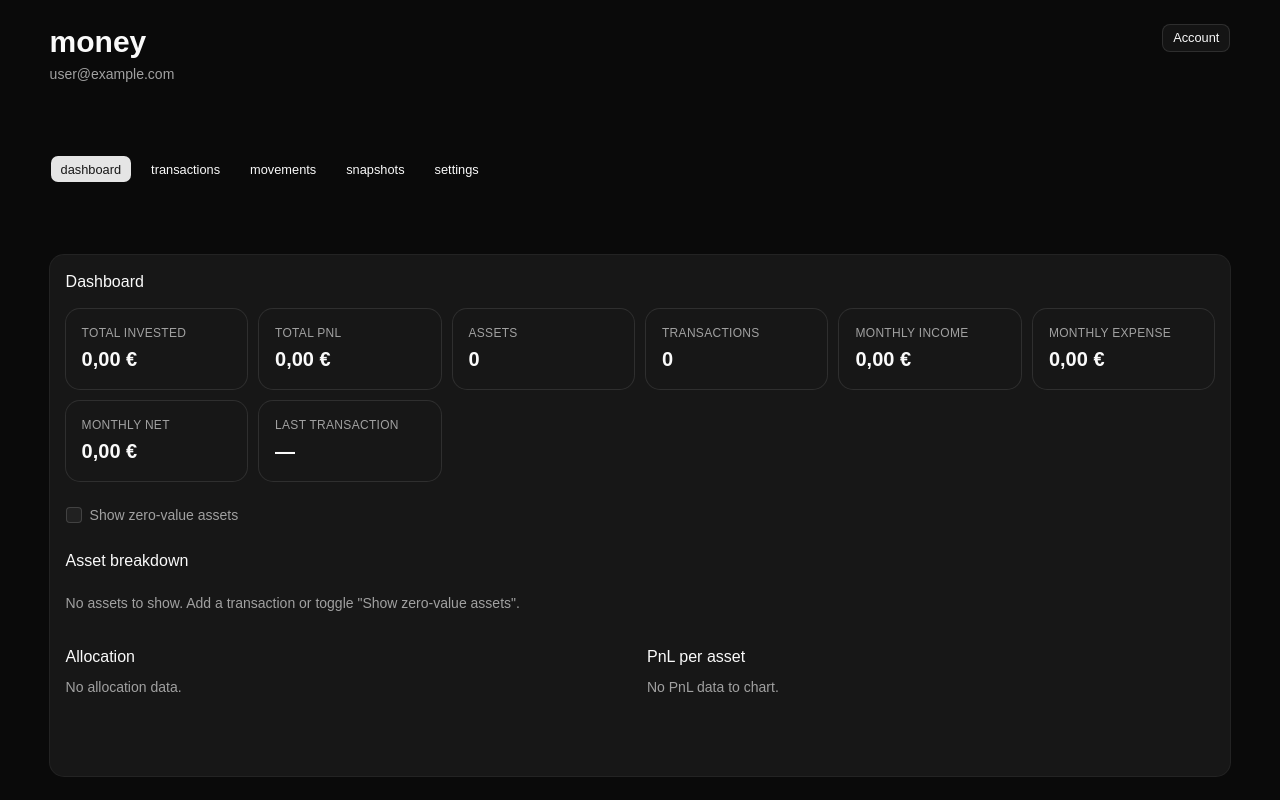
Scenario: Dashboard panel (authenticated state) › switches to transactions panel on nav click
The width and height of the screenshot is (1280, 800).
Expected: the heading "Dashboard" is shown, [66,273,144,290]
What coordinates should you click on to do the following:
click the link "transactions"
I would click on:
 (186, 169)
Its box is [151,162,220,177].
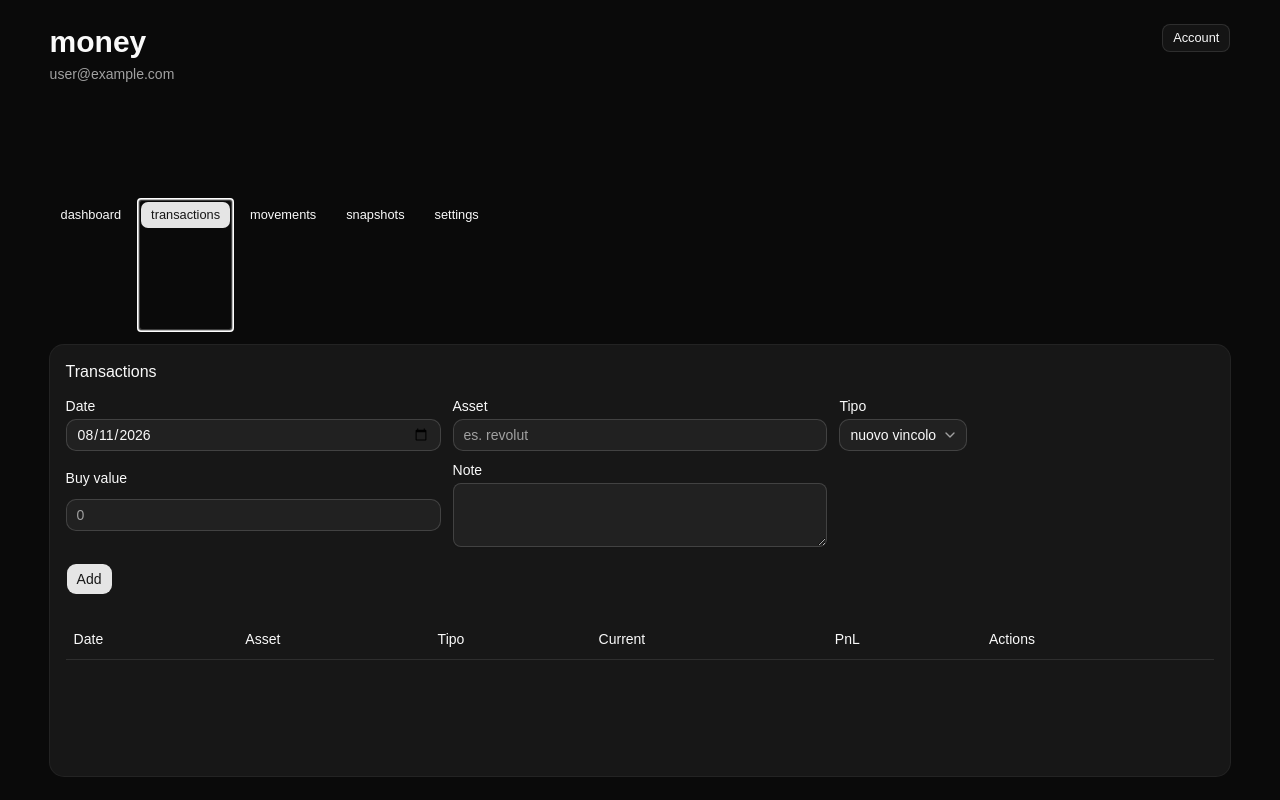
Now the heading "Transactions" is shown, box [66,363,157,380]
